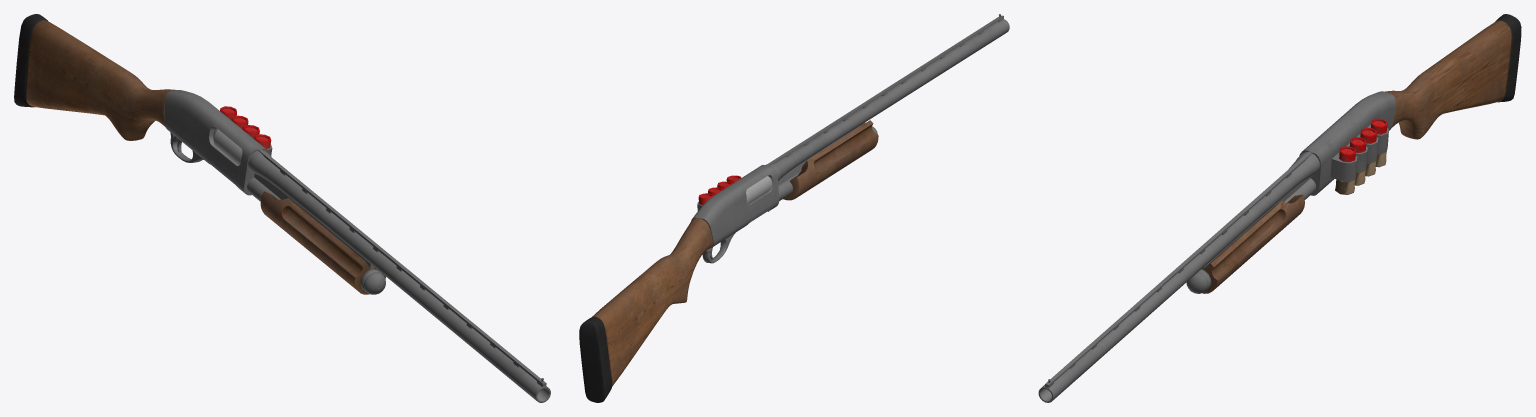
The model's file is rem870.glb.
3 renders of one model, left to right at view 1: azimuth 30°, elevation 25°; view 2: azimuth 150°, elevation 25°; view 3: azimuth 330°, elevation 25°, orthographic. The views are drawn at different scales.
Parts seen in each view (by area): view 1: defaultMaterial_1, defaultMaterial; view 2: defaultMaterial_1, defaultMaterial; view 3: defaultMaterial_1, defaultMaterial.
Part boxes in pixels (x1,y1,x2,y2): defaultMaterial_1: [14, 14, 550, 402]; defaultMaterial: [164, 90, 543, 381]; defaultMaterial_1: [579, 15, 1009, 402]; defaultMaterial: [691, 14, 1000, 263]; defaultMaterial_1: [1038, 14, 1521, 402]; defaultMaterial: [1048, 91, 1396, 382].
Size of the model in its own units: 0.0733 by 0.1388 by 1.06.
Materials: 2 (2 with a texture image).
